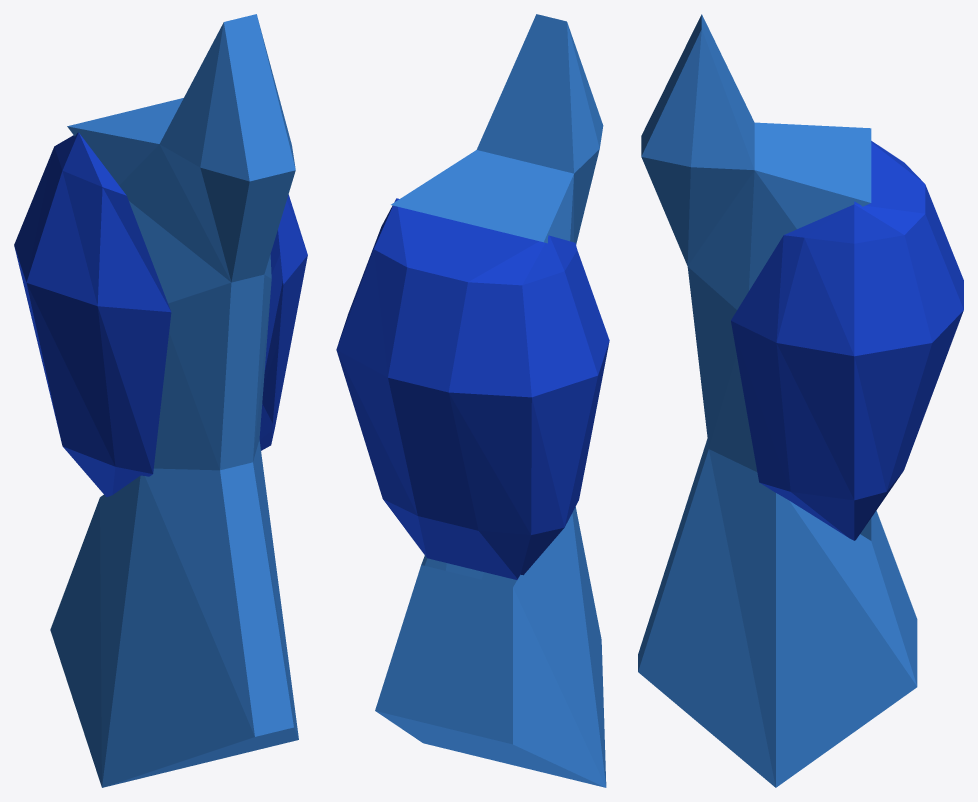
Rendered from FootL.FBX.
The picture shows the model from 3 angles, left to right: view 1: azimuth 30°, elevation 25°; view 2: azimuth 150°, elevation 25°; view 3: azimuth 270°, elevation 25°; orthographic projection. The views are drawn at different scales.
Visible parts, largest first — view 1: VIFS002, VIFS001; view 2: VIFS001, VIFS002; view 3: VIFS002, VIFS001.
Boxes of the visible parts, x1,y1,x2,y2 form: VIFS002: (50, 14, 298, 787); VIFS001: (14, 132, 307, 497); VIFS001: (336, 198, 609, 579); VIFS002: (375, 14, 606, 787); VIFS002: (638, 14, 917, 787); VIFS001: (731, 141, 963, 540).
Bounding box in the file's own units: 0.4085 × 1.12 × 0.4602.
